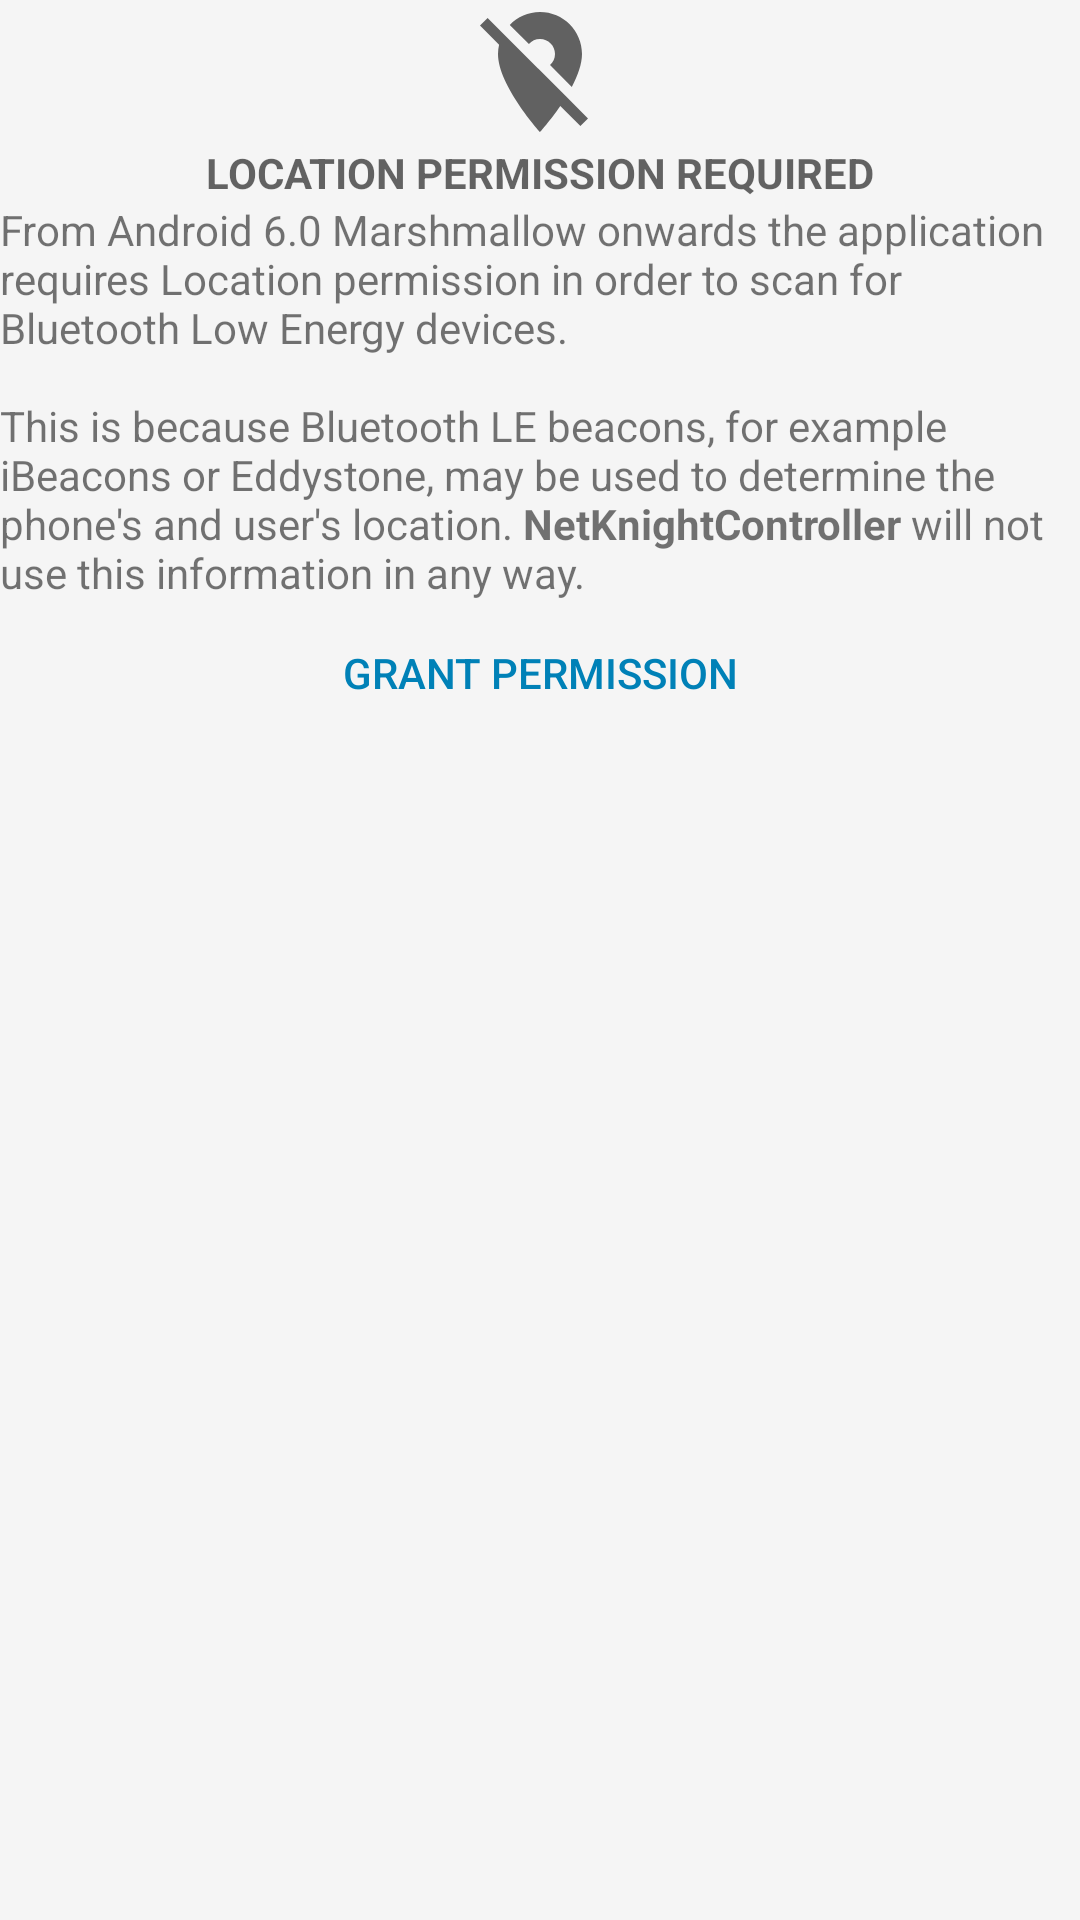

Icon click points for this 1080px x 1920px phone screenshot, format point (x, y):
location off: point (534, 72)
